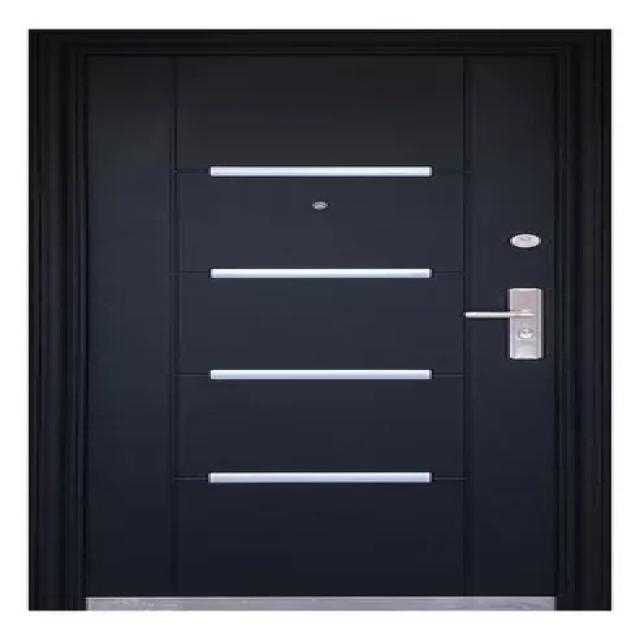door: (32, 29, 608, 610)
